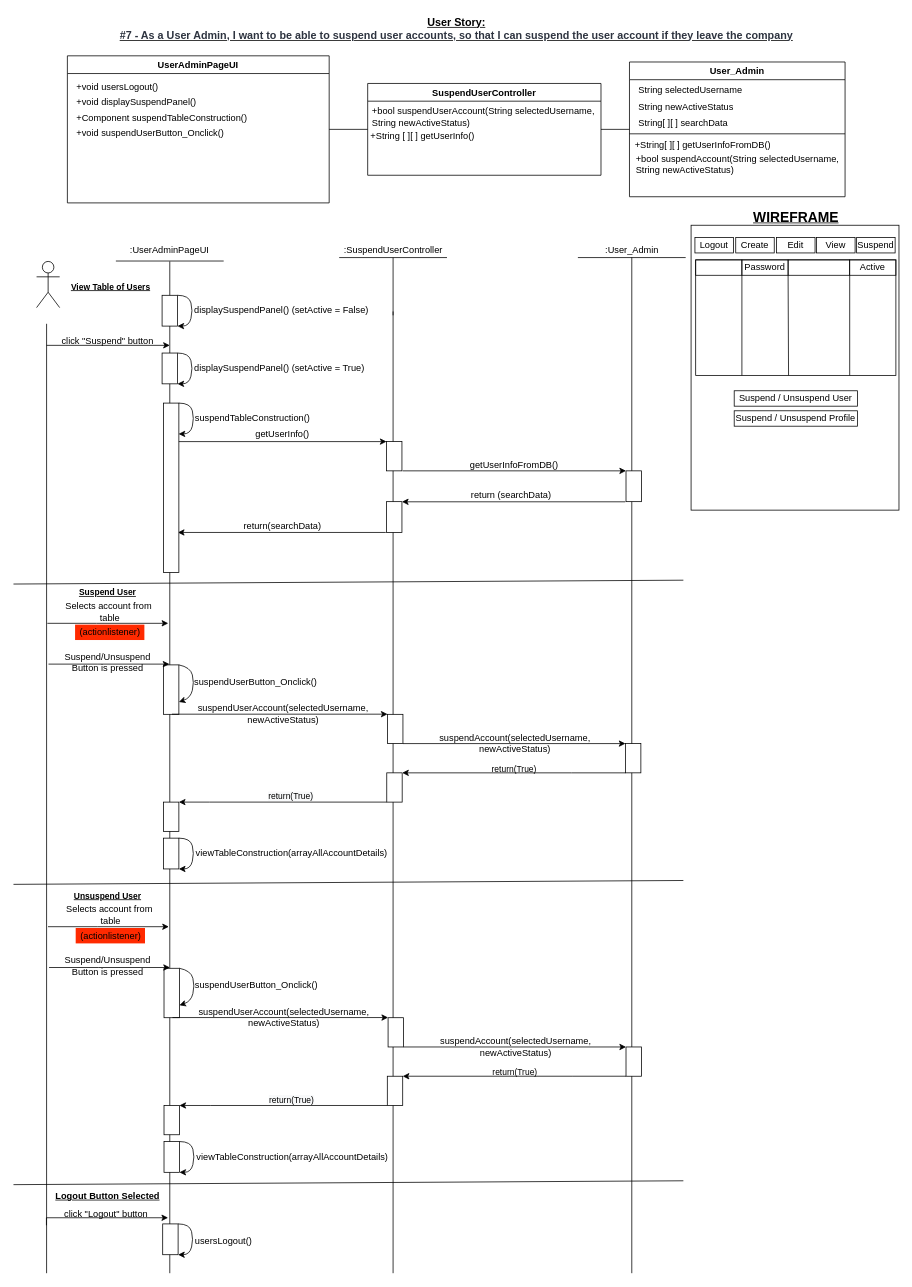
The diagram is 912 pixels wide and 1287 high, and some of its shapes have lost their labels. The centre of each missing label's shape, as x and y in pixels:
User Admin: the point at 48,284
User Profile: the point at 818,267
Username: the point at 718,267
